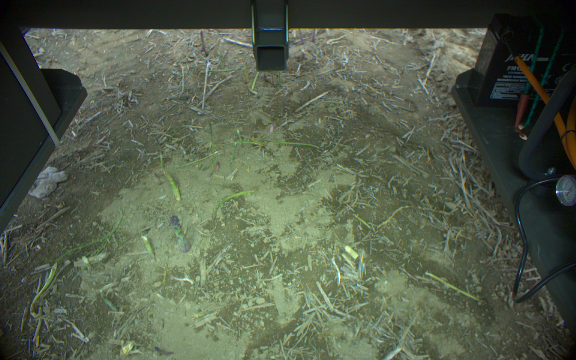aspa: (425, 270, 483, 303), (27, 263, 58, 319), (210, 187, 255, 220), (168, 213, 189, 254), (162, 169, 182, 200), (273, 138, 320, 148), (141, 235, 154, 257), (199, 30, 208, 55), (309, 26, 317, 42), (297, 27, 303, 44)
